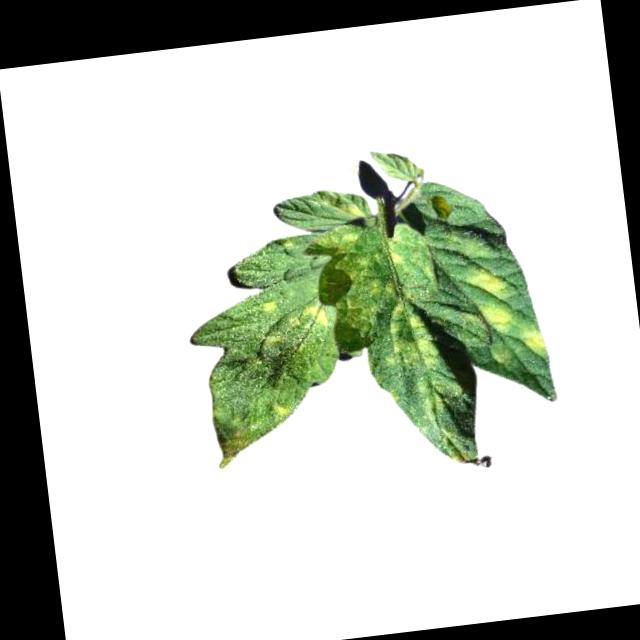Leaf_Mold: (307, 221, 399, 346), (374, 297, 441, 379), (456, 263, 512, 343), (407, 372, 463, 430), (210, 413, 260, 472), (285, 299, 328, 334), (523, 324, 551, 360), (269, 398, 290, 426), (258, 297, 281, 320)
